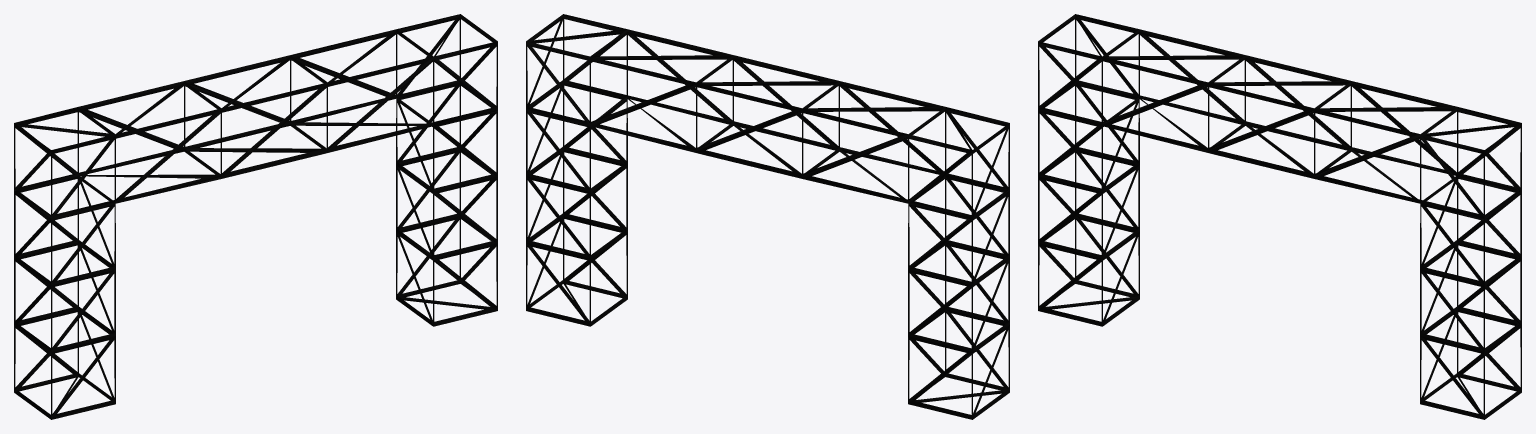
The model's file is StageTrussDark.glb.
3 renders of one model, left to right at view 1: azimuth 30°, elevation 25°; view 2: azimuth 150°, elevation 25°; view 3: azimuth 330°, elevation 25°, orthographic.
Visible parts, largest first — view 1: StageTrussDark; view 2: StageTrussDark; view 3: StageTrussDark.
Boxes of the visible parts, x1,y1,x2,y2 form: StageTrussDark: (14, 14, 497, 419); StageTrussDark: (526, 14, 1009, 419); StageTrussDark: (1038, 14, 1521, 419).
Bounding box in the file's own units: 14.03 × 8.11 × 2.04.
1 material, 1 textured.
